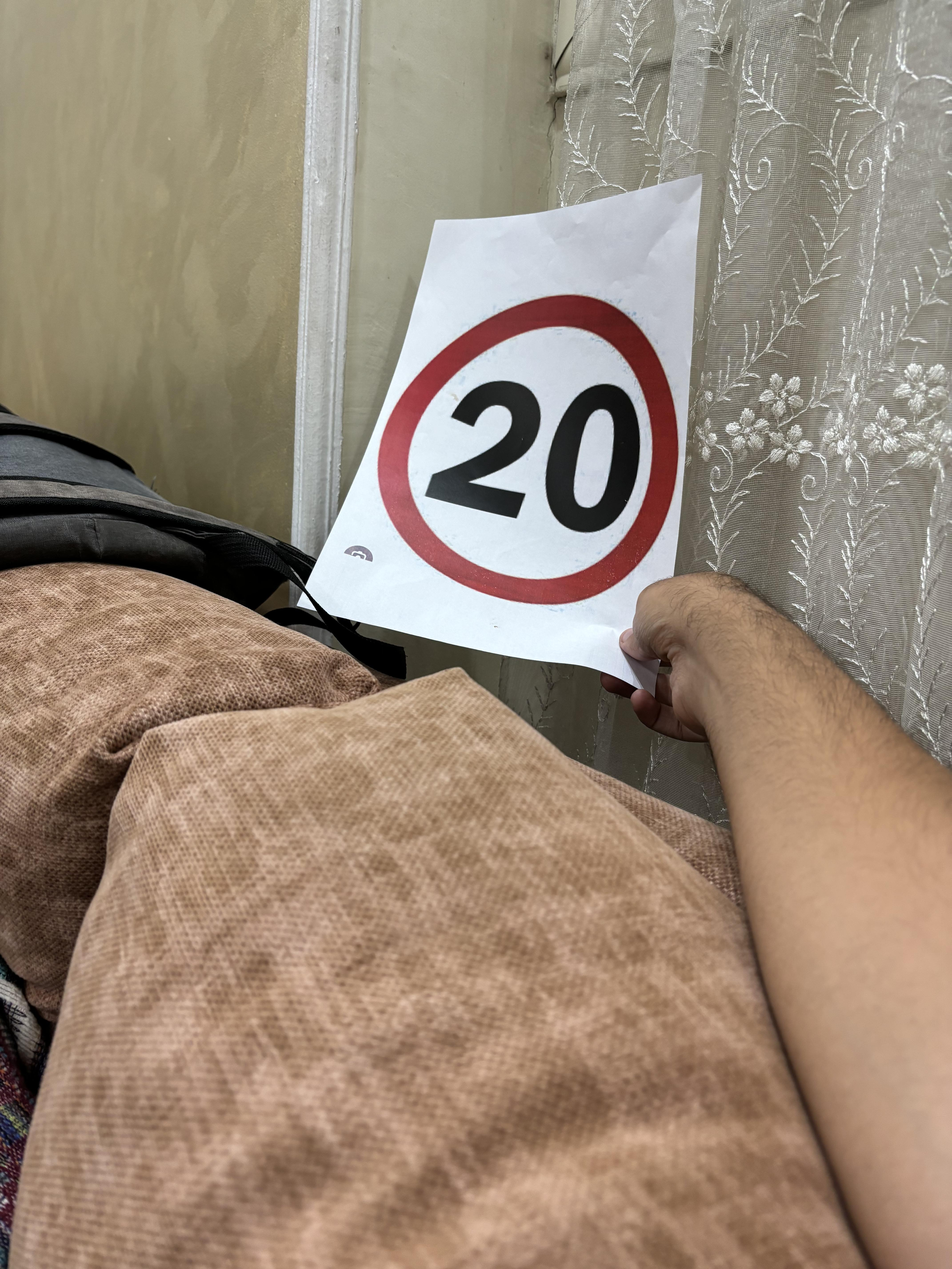20-Speed: (369, 291, 687, 598)
